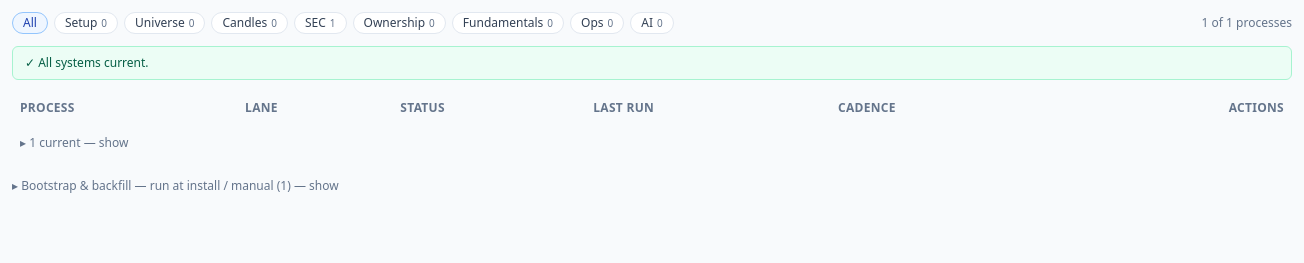
ProcessesTable › hides the completed bootstrap row but shows steady-state rows when complete
Click the button "▸ 1 current — show" at (74, 143), box top-left (20, 135), bottom-right (128, 151)
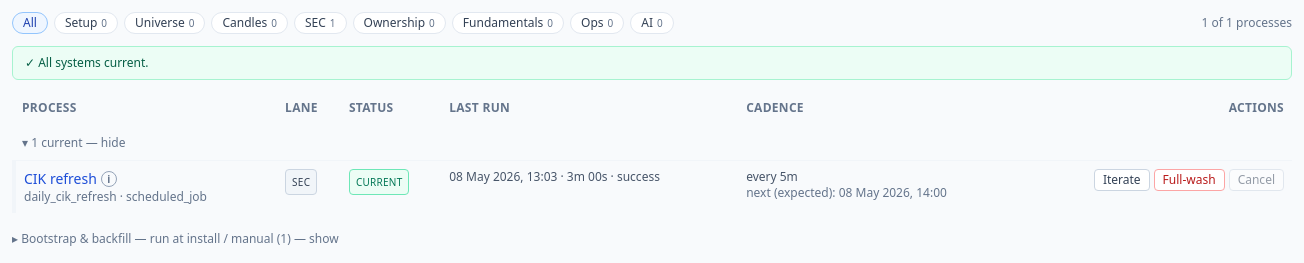
Result: the link "CIK refresh" is shown at top-left (24, 169), bottom-right (97, 189)
